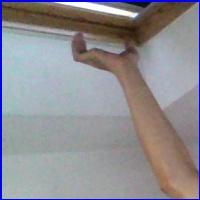space: (64, 25, 149, 76)
